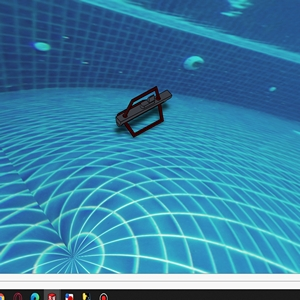submarine: (116, 83, 171, 133)
